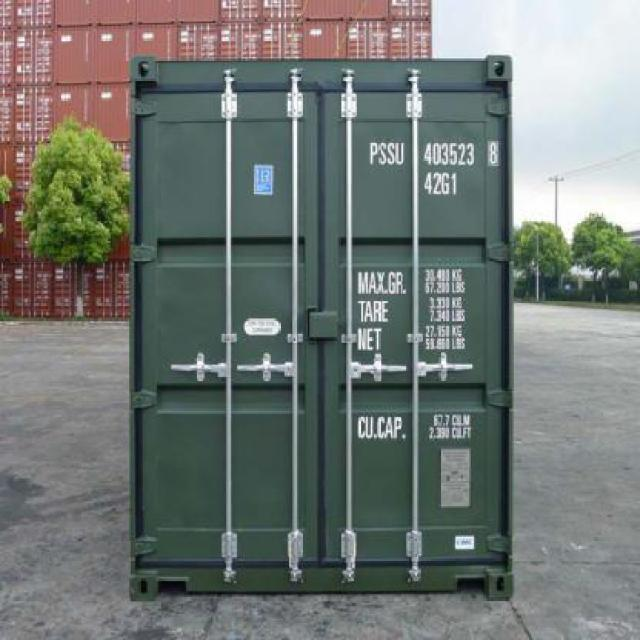ISO: (423, 168, 461, 196)
container_number: (374, 140, 499, 166)
